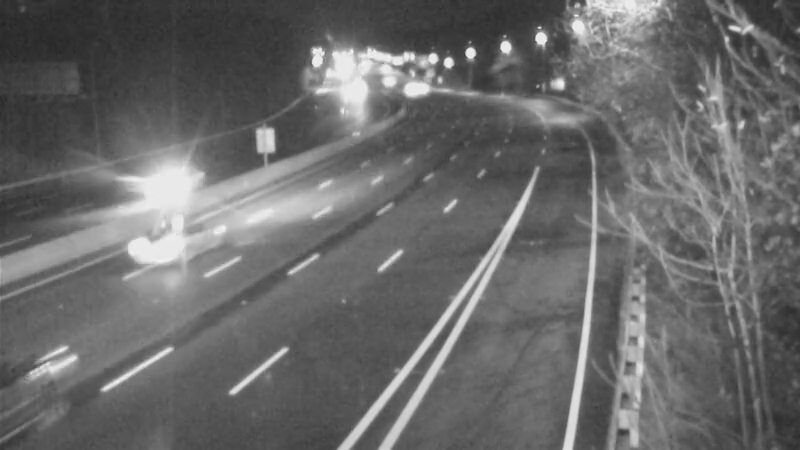vehicle: (124, 212, 204, 292), (138, 150, 218, 230), (387, 62, 437, 112)
